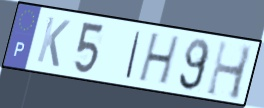5: (71, 19, 108, 75)
9: (177, 36, 212, 93)
H: (204, 38, 255, 103), (135, 32, 183, 88)
I: (123, 29, 143, 81)
K: (34, 14, 72, 70)
